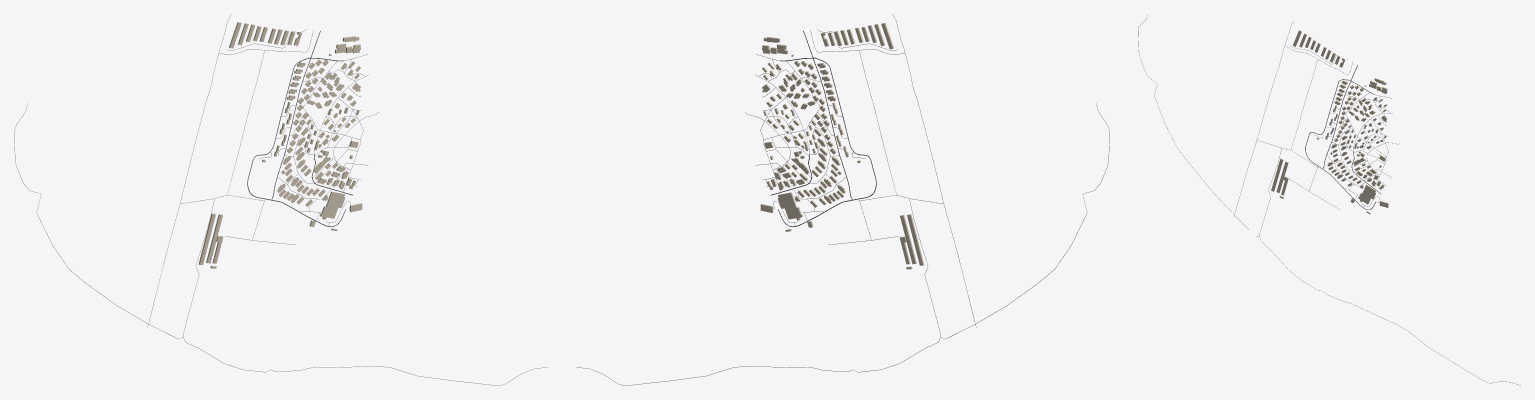
The model's file is historic-palestine-05_24_3471_3181.glb.
The picture shows the model from 3 angles, left to right: view 1: azimuth 30°, elevation 25°; view 2: azimuth 150°, elevation 25°; view 3: azimuth 330°, elevation 25°; orthographic projection. The views are drawn at different scales.
Parts seen in each view (by area): view 1: Road .007; view 2: Road .007; view 3: Road .007.
Boxes of the visible parts, x1,y1,x2,y2 form: Road .007: [14, 103, 547, 385]; Road .007: [576, 103, 1109, 385]; Road .007: [1138, 14, 1520, 385].
Bounding box in the file's own units: 2347 × 1839 × 8.7.
